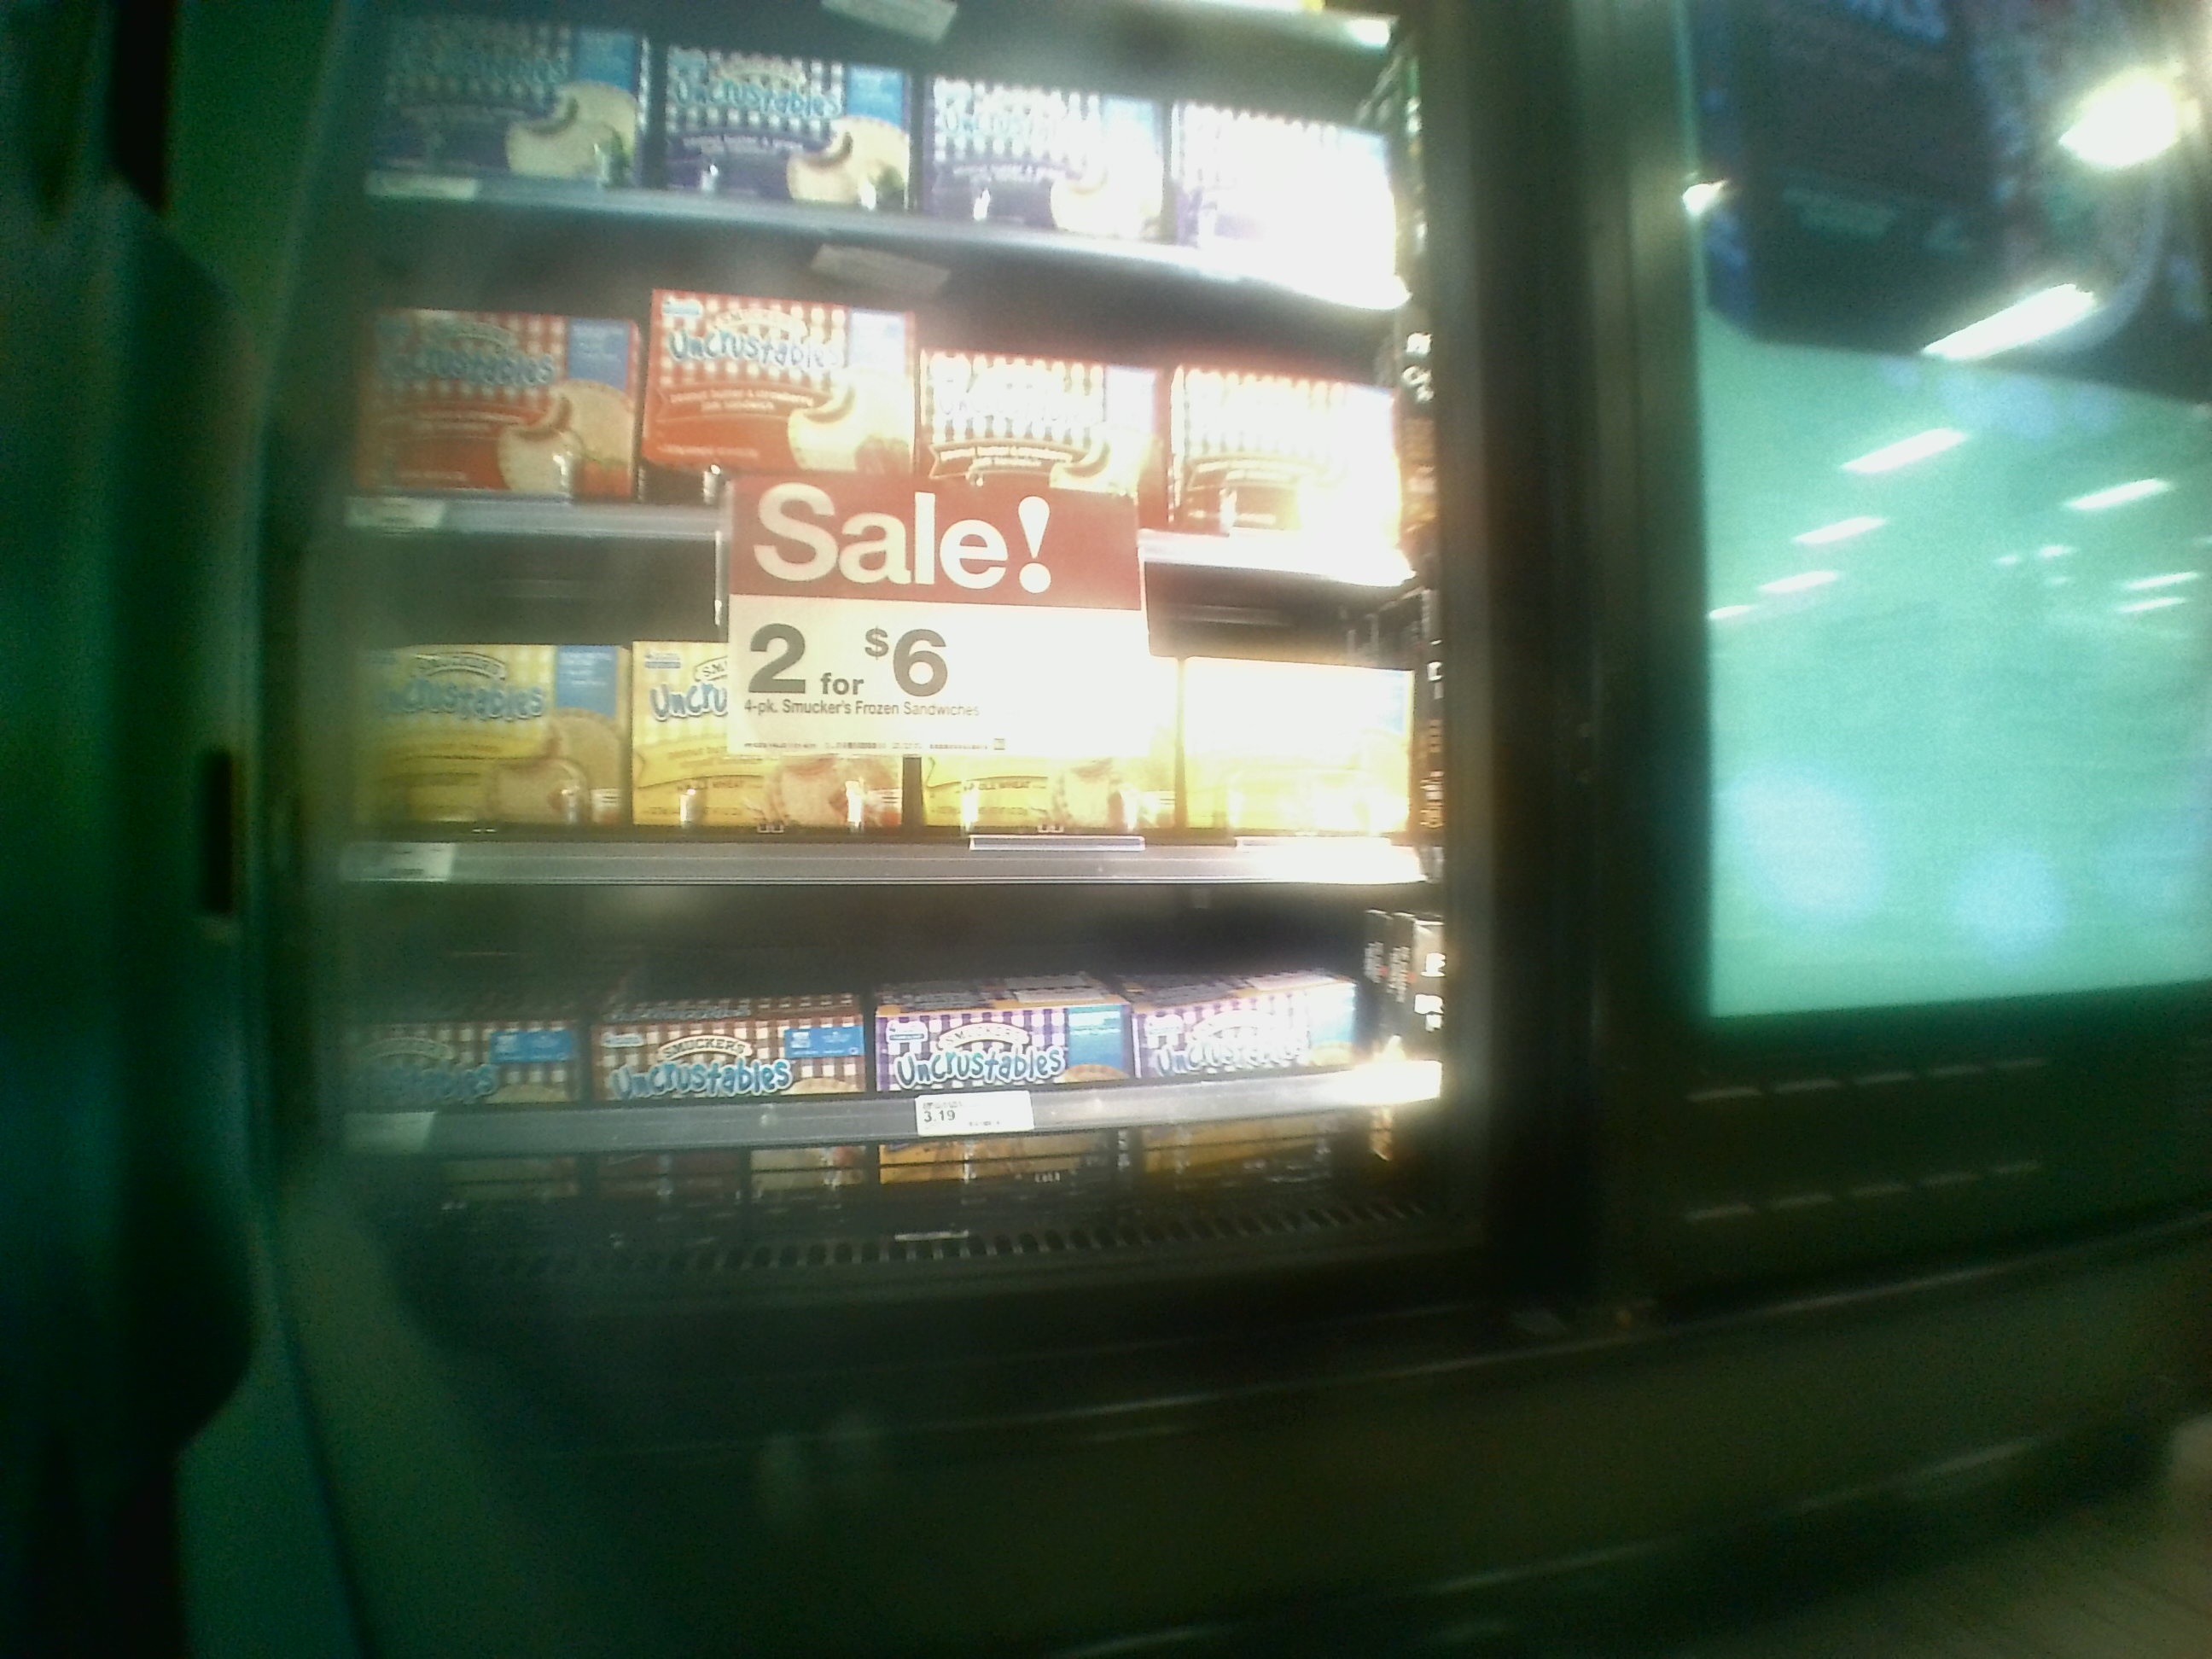shelf: (301, 828, 1442, 1265), (291, 509, 1416, 870), (322, 202, 1400, 561)
